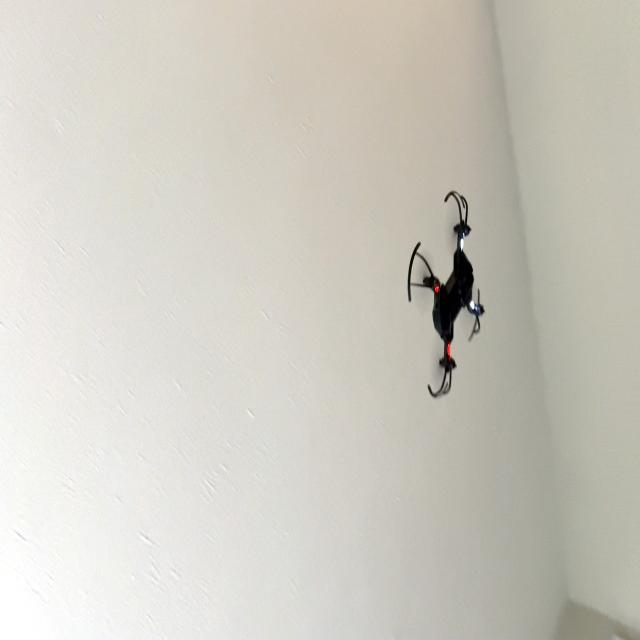drone: (401, 172, 492, 412)
